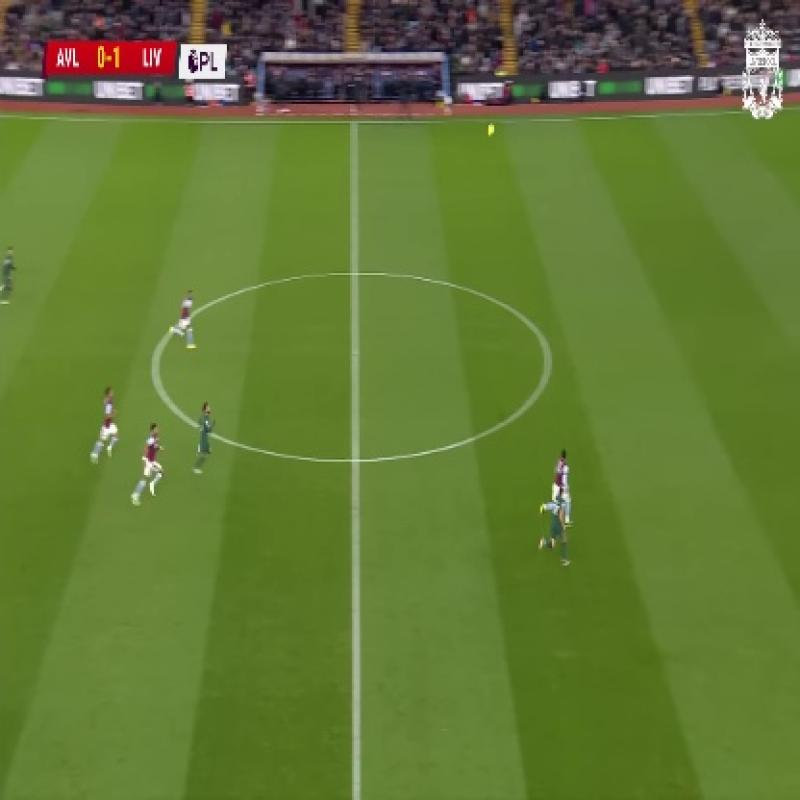13: (340, 101, 368, 142)
14: (338, 252, 370, 294)
15: (336, 432, 372, 484)
c: (132, 344, 176, 388), (528, 340, 574, 381)
